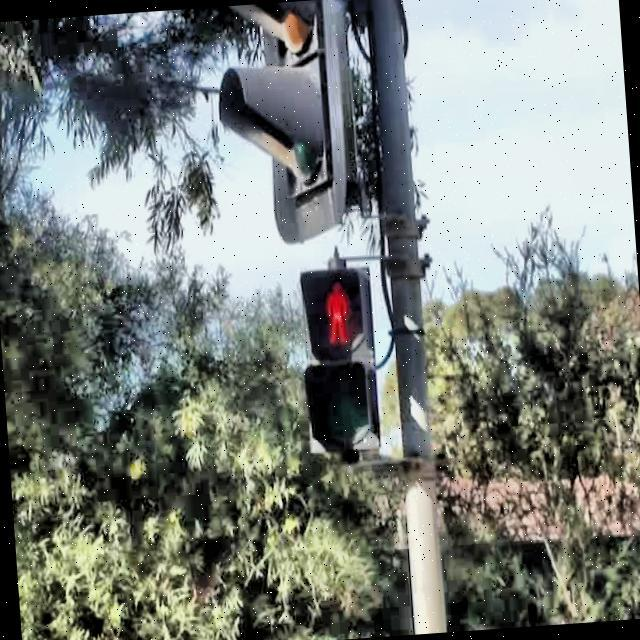red_light: (322, 280, 352, 346)
